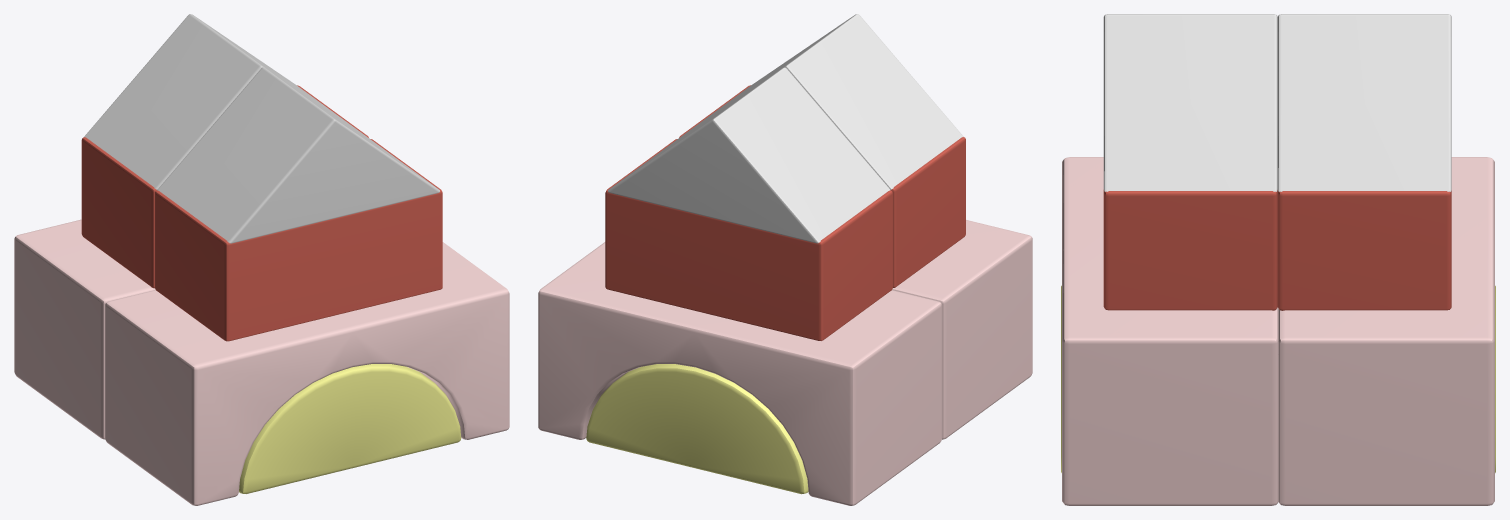
Rendered from Building1.fbx.
3 renders of one model, left to right at view 1: azimuth 30°, elevation 25°; view 2: azimuth 150°, elevation 25°; view 3: azimuth 270°, elevation 25°, orthographic. The views are drawn at different scales.
Visible parts, largest first — view 1: B1_ingame; view 2: B1_ingame; view 3: B1_ingame.
Boxes of the visible parts, left/top/right/bottom form: B1_ingame: left=14, top=14, right=509, bottom=505; B1_ingame: left=538, top=14, right=1032, bottom=505; B1_ingame: left=1061, top=14, right=1495, bottom=505.
Size of the model in its own units: 99.34 by 101 by 98.96.
